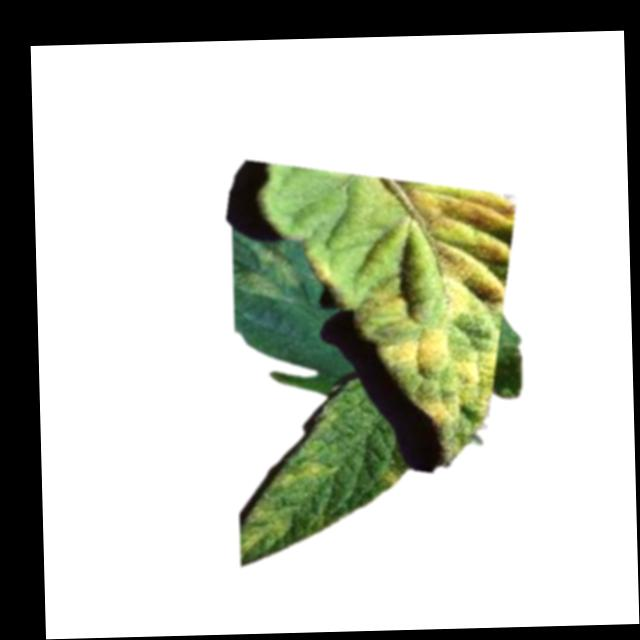Leaf_Mold: (307, 175, 522, 432), (272, 459, 335, 491)
